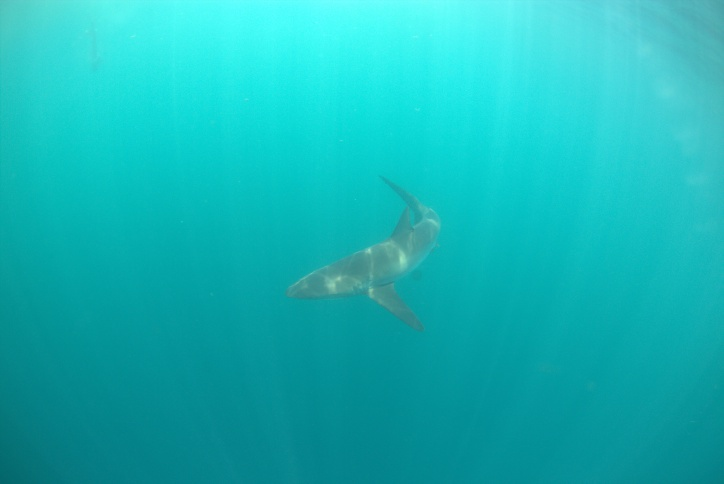Sedoso: (277, 170, 476, 338)
